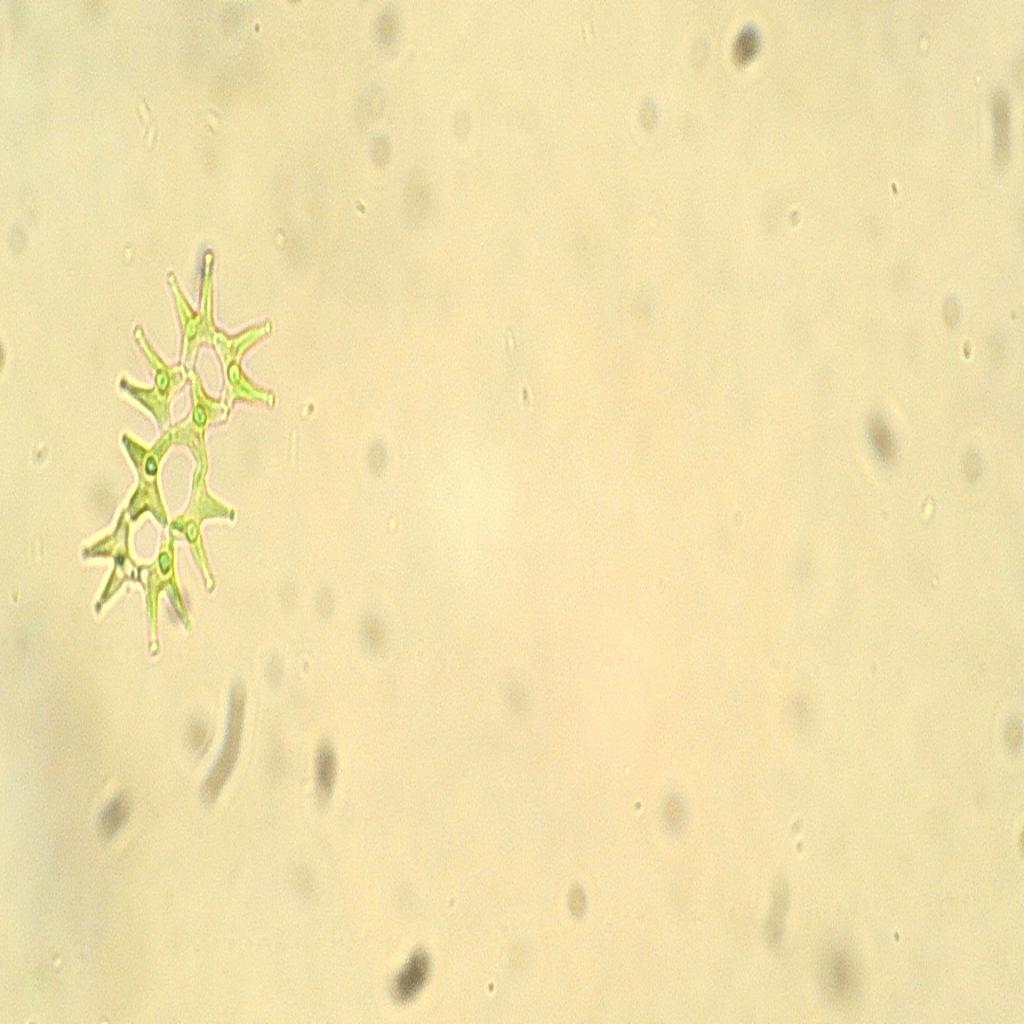Pediastrum_1TH: (76, 219, 282, 672)
